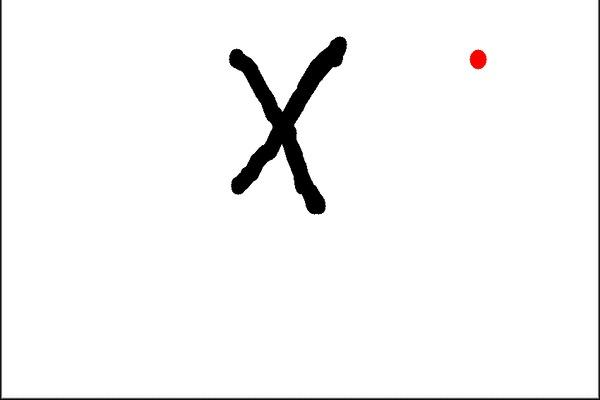Z: (196, 29, 360, 235)
